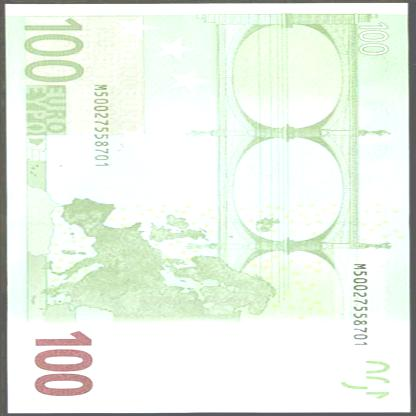euro_banknote: (3, 8, 415, 411)
